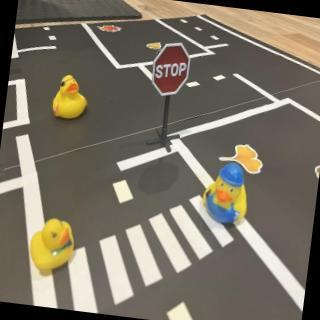duck_regular: (28, 215, 80, 276)
duck_specialty: (200, 159, 255, 230), (51, 72, 94, 124)
road_crosswalk: (56, 175, 247, 320)
sign_stop: (151, 41, 193, 100)
